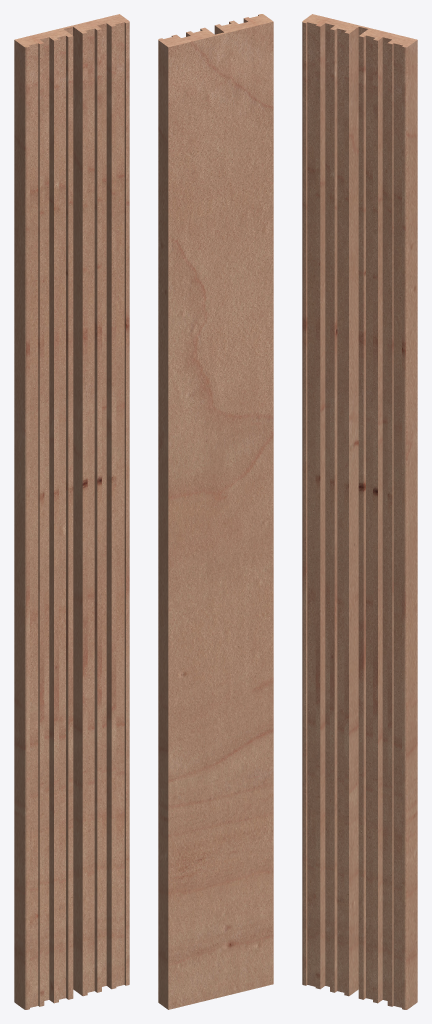
The model's file is FlutterX13.glb.
3 views of the same model, side by side, from view 1: azimuth 30°, elevation 25°; view 2: azimuth 210°, elevation 25°; view 3: azimuth 330°, elevation 25° (orthographic).
Parts seen in each view (by area): view 1: FlutterX13; view 2: FlutterX13; view 3: FlutterX13.
Part boxes in pixels (x1=…): FlutterX13: x1=14, y1=14, x2=129, y2=1009; FlutterX13: x1=158, y1=14, x2=273, y2=1009; FlutterX13: x1=302, y1=14, x2=417, y2=1009.
Size of the model in its own units: 5.5 by 48 by 0.9991.
1 material, 1 textured.
